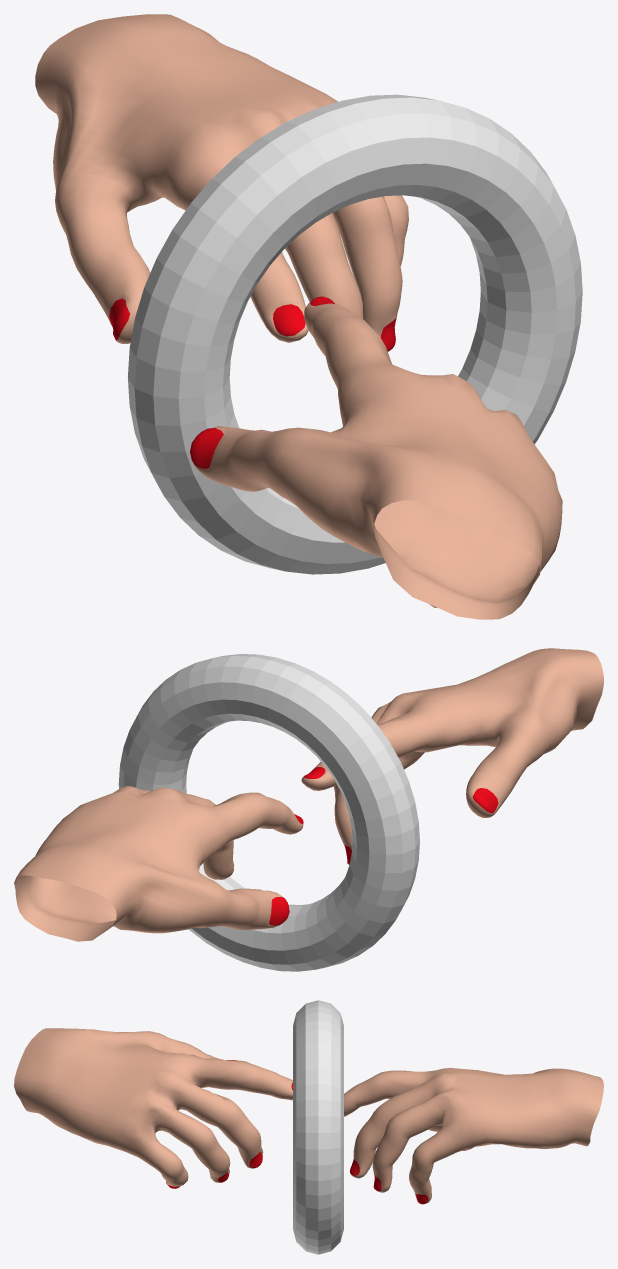
Rendered from hands.glb.
3 views of the same model, one above another, from view 1: azimuth 30°, elevation 25°; view 2: azimuth 150°, elevation 25°; view 3: azimuth 270°, elevation 25° (orthographic). The views are drawn at different scales.
Parts seen in each view (by area): view 1: Torus, export, Other hand; view 2: Torus, export, Other hand; view 3: Other hand, export, Torus.
Boxes of the visible parts, x1,y1,x2,y2 form: Torus: (127, 94, 582, 574); export: (35, 14, 408, 351); Other hand: (190, 296, 562, 619); Torus: (118, 654, 419, 971); export: (14, 786, 303, 941); Other hand: (301, 648, 603, 864); Other hand: (14, 1028, 292, 1188); export: (344, 1067, 603, 1204); Torus: (293, 1000, 343, 1254).
Size of the model in its own units: 2.67 by 2.5 by 5.79.
